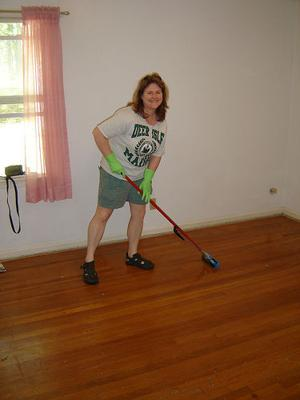person: (83, 74, 170, 287)
